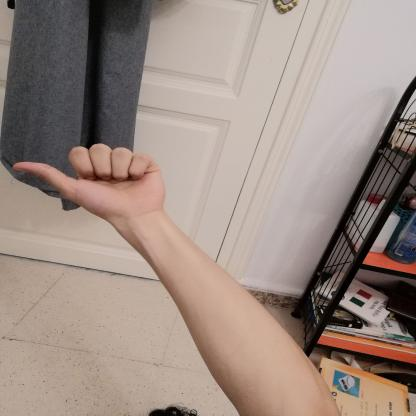DAD: (6, 136, 176, 227)
